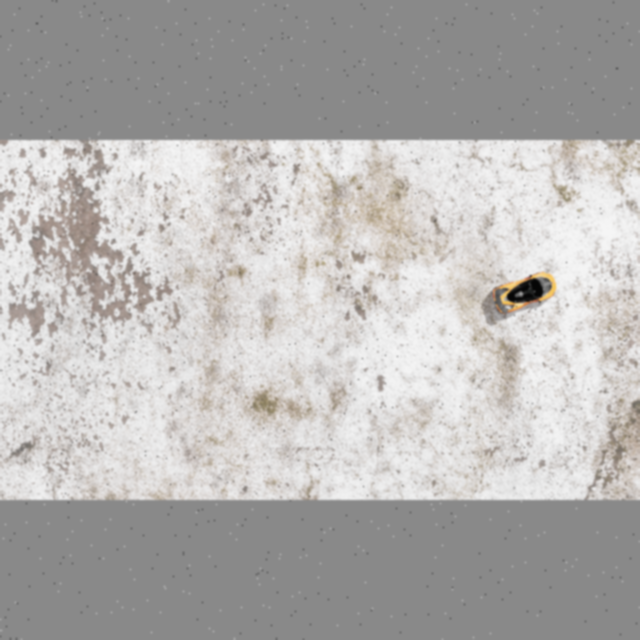car: (486, 266, 564, 317)
